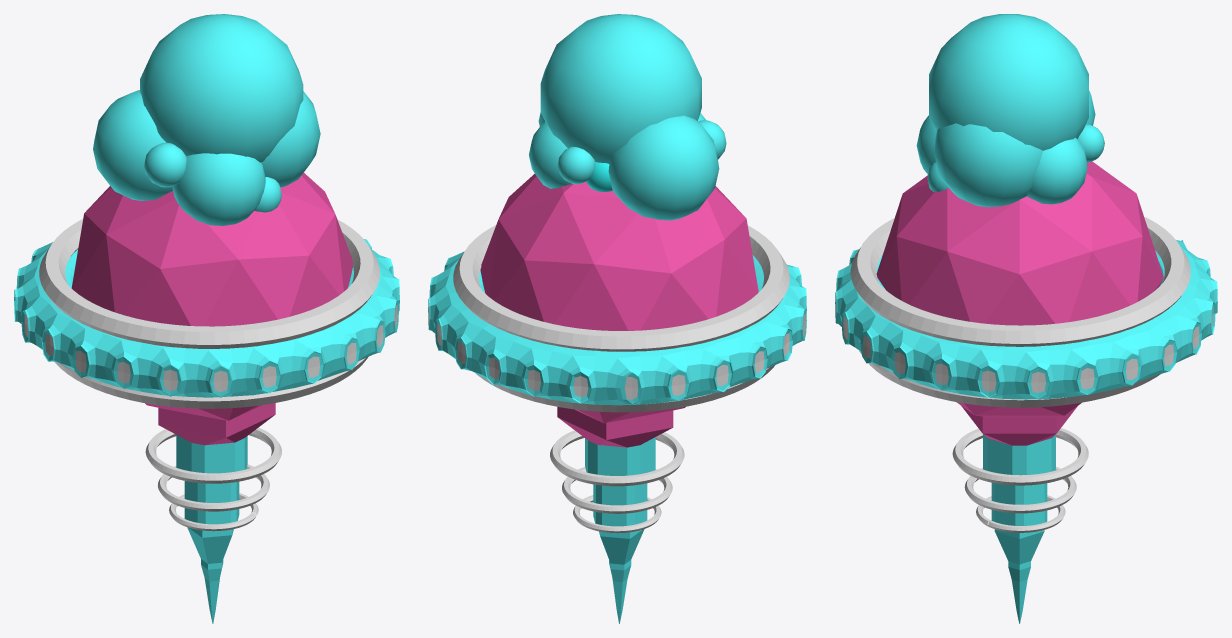
The model's file is Spaceship_Uranus.fbx.
3 renders of one model, left to right at view 1: azimuth 30°, elevation 25°; view 2: azimuth 150°, elevation 25°; view 3: azimuth 270°, elevation 25°, orthographic.
Parts seen in each view (by area): view 1: Icosphere; view 2: Icosphere; view 3: Icosphere.
Part boxes in pixels (bbox=[...]): Icosphere: bbox=[14, 14, 399, 623]; Icosphere: bbox=[428, 14, 806, 623]; Icosphere: bbox=[835, 14, 1217, 623].
Size of the model in its own units: 804 by 1399 by 802.
